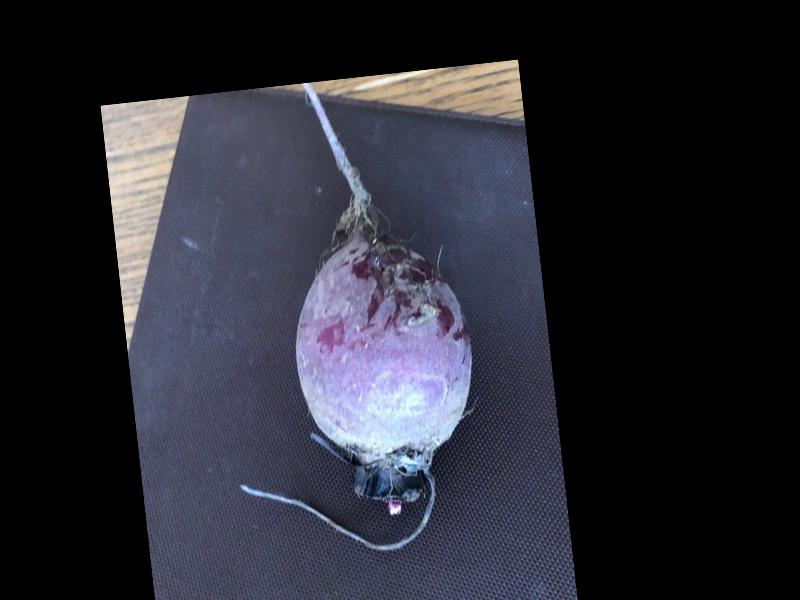Beet: (196, 67, 494, 566)
